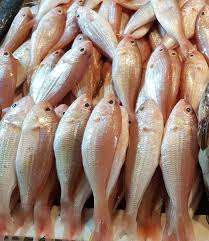Ikan Kerisi: (162, 95, 204, 241), (83, 89, 121, 230), (20, 92, 56, 232), (127, 97, 163, 225), (60, 94, 94, 220), (111, 33, 144, 121), (142, 41, 177, 122), (30, 5, 63, 74)
